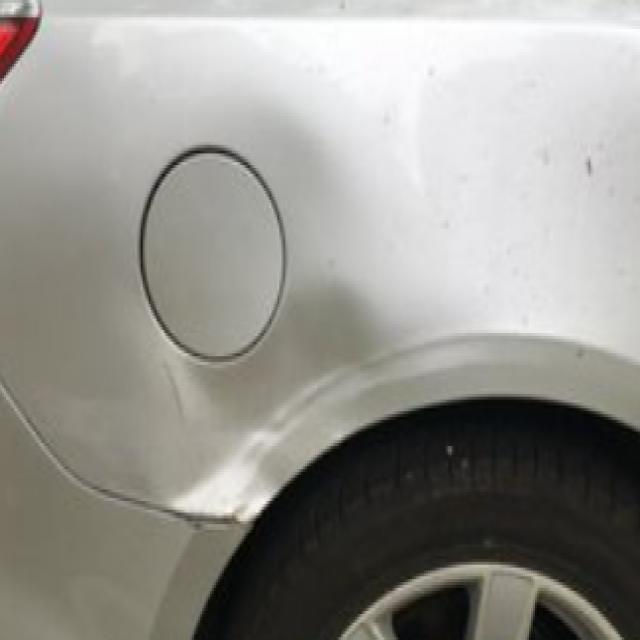dents: (149, 267, 402, 549)
